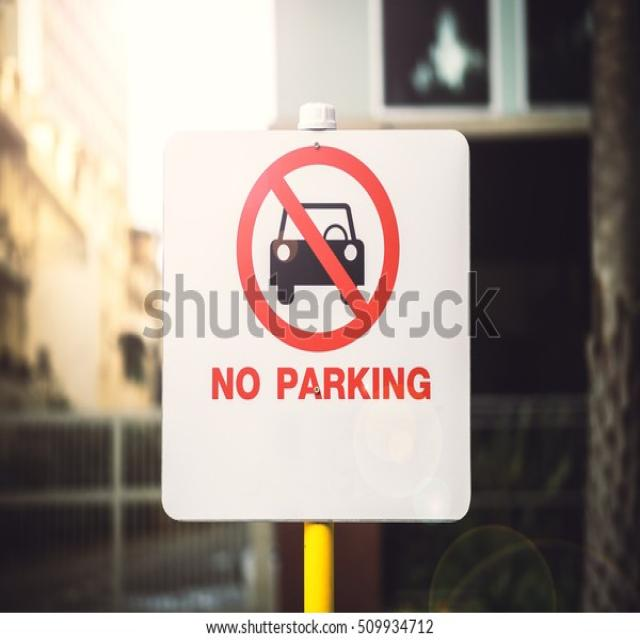Traffic sign: (201, 136, 450, 409)
